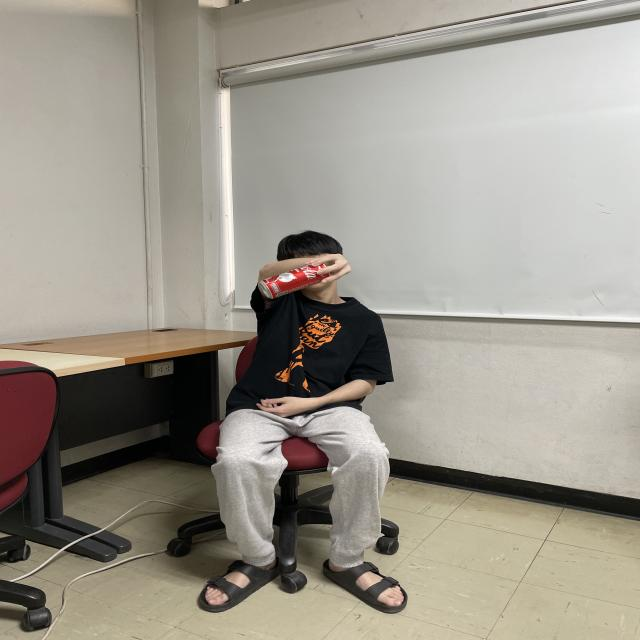can: (258, 260, 333, 299)
